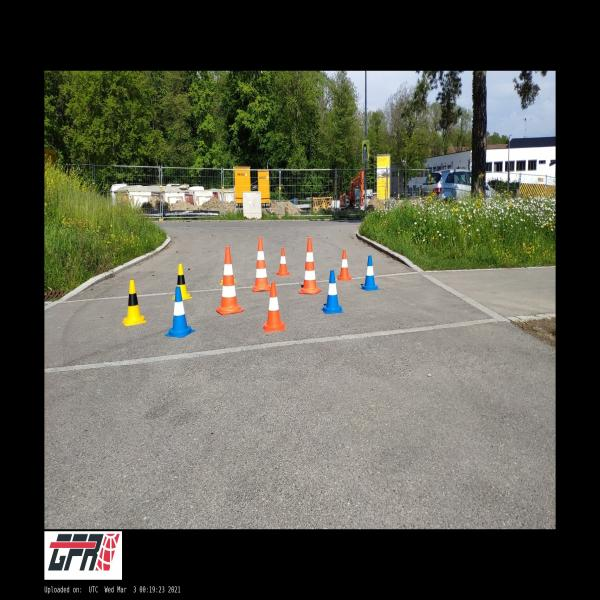blue_cone: (165, 286, 195, 338), (321, 270, 344, 314), (360, 255, 380, 291)
large_orange_cone: (216, 247, 243, 315), (299, 238, 321, 294), (252, 237, 270, 291)
orange_cone: (263, 282, 286, 332), (337, 250, 352, 280), (276, 248, 290, 276)
yellow_cone: (122, 280, 146, 326), (172, 264, 193, 300)
